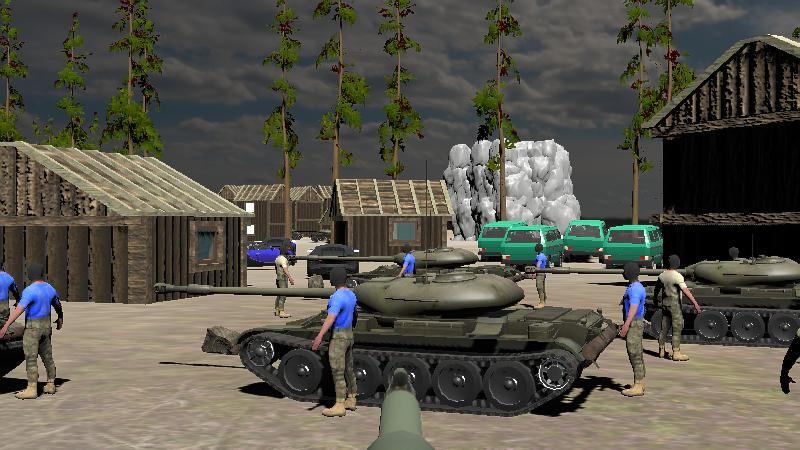House: (0, 142, 248, 303), (643, 34, 800, 274), (330, 178, 454, 259), (225, 183, 291, 242), (289, 185, 327, 242), (288, 185, 327, 240)
Human: (2, 262, 65, 400), (309, 263, 361, 418), (647, 252, 702, 363), (648, 252, 701, 361), (618, 259, 649, 399), (779, 295, 800, 450), (0, 255, 21, 354), (273, 244, 295, 318), (532, 244, 549, 307), (397, 242, 418, 279)
Tank: (153, 270, 617, 420), (615, 255, 799, 349)
car: (477, 222, 565, 269), (602, 223, 662, 269), (562, 219, 607, 263), (245, 238, 297, 267)
